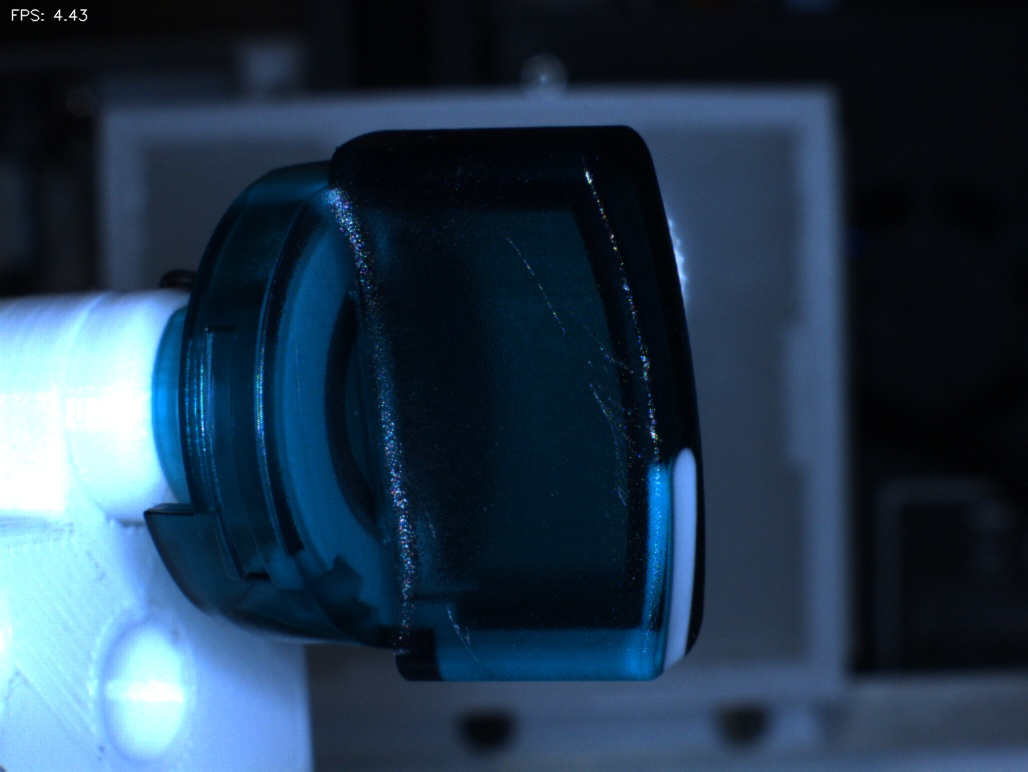Givrage: (527, 267, 648, 511)
